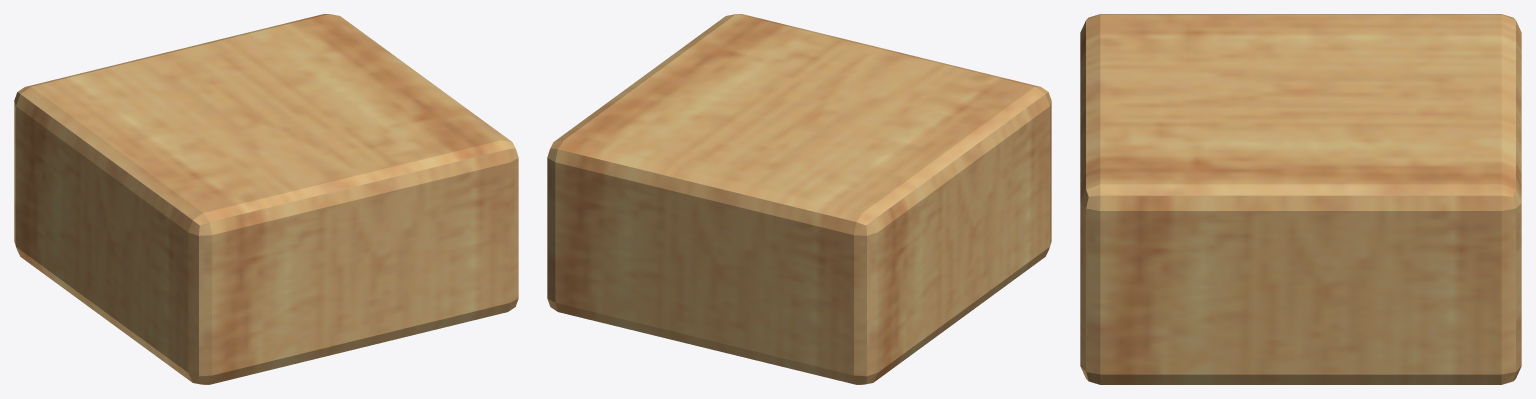
The model's file is PinkHalfCubeSmall.fbx.
3 renders of one model, left to right at view 1: azimuth 30°, elevation 25°; view 2: azimuth 150°, elevation 25°; view 3: azimuth 270°, elevation 25°, orthographic. The views are drawn at different scales.
Visible parts, largest first — view 1: Cube.001; view 2: Cube.001; view 3: Cube.001.
Boxes of the visible parts, box(x1,y1,x2,y2) form: Cube.001: box(14, 14, 518, 384); Cube.001: box(547, 14, 1051, 384); Cube.001: box(1080, 14, 1521, 384).
Size of the model in its own units: 200 by 100 by 200.
